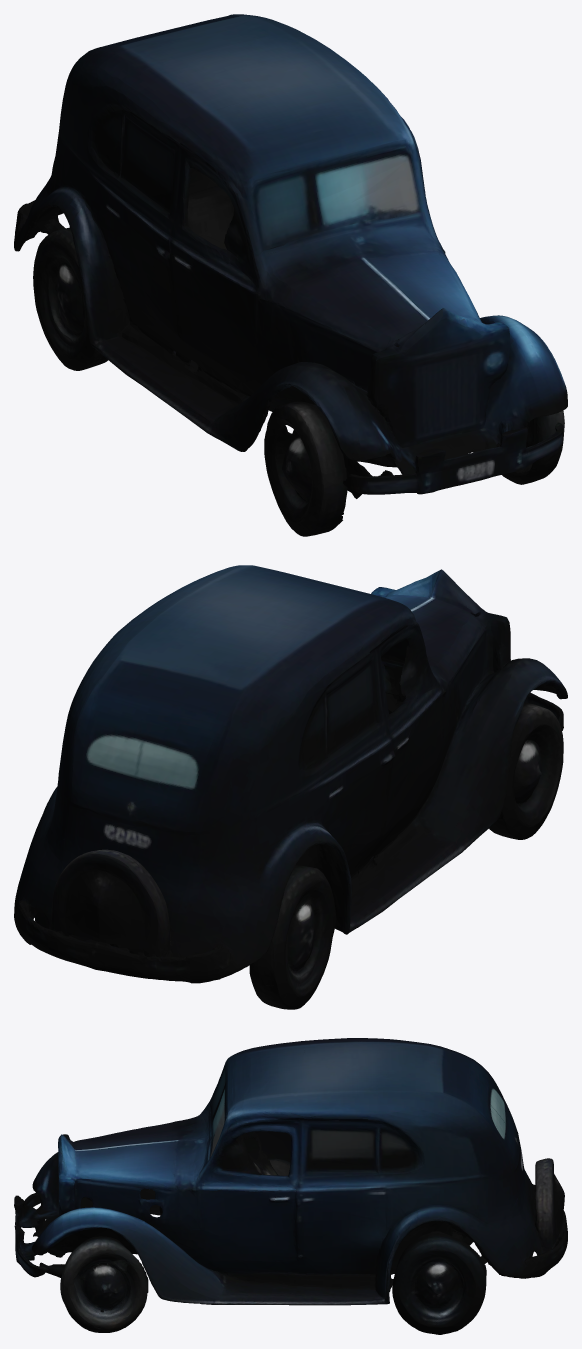
The model's file is sedan.glb.
3 views of the same model, one above another, from view 1: azimuth 30°, elevation 25°; view 2: azimuth 150°, elevation 25°; view 3: azimuth 270°, elevation 25° (orthographic). The views are drawn at different scales.
Parts seen in each view (by area): view 1: geometry_0; view 2: geometry_0; view 3: geometry_0.
Part boxes in pixels (x1,y1,x2,y2): geometry_0: [14, 14, 567, 536]; geometry_0: [14, 565, 567, 1009]; geometry_0: [14, 1038, 567, 1334].
Size of the model in its own units: 0.4057 by 0.4572 by 0.9976.
Materials: 1 (1 with a texture image).
